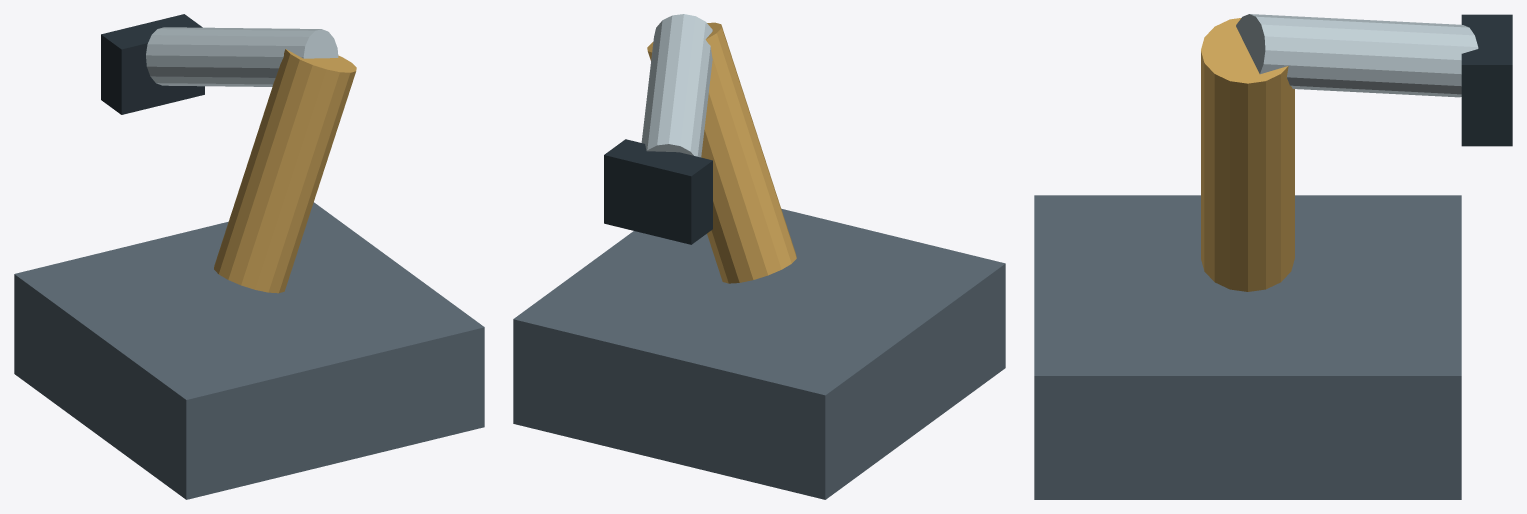
File: factory.glb
3 renders of one model, left to right at view 1: azimuth 30°, elevation 25°; view 2: azimuth 150°, elevation 25°; view 3: azimuth 270°, elevation 25°, orthographic. The views are drawn at different scales.
Visible parts, largest first — view 1: robot machine base, robot shoulder, robot forearm, tool claw; view 2: robot machine base, robot shoulder, tool claw, robot forearm; view 3: robot machine base, robot shoulder, robot forearm, tool claw.
Part boxes in pixels (x1,y1,x2,y2): robot machine base: [14, 202, 484, 499]; robot shoulder: [214, 49, 356, 293]; robot forearm: [146, 27, 338, 86]; tool claw: [101, 14, 204, 114]; robot machine base: [513, 208, 1005, 499]; robot shoulder: [647, 22, 796, 283]; tool claw: [604, 139, 712, 244]; robot forearm: [641, 14, 712, 157]; robot machine base: [1034, 195, 1461, 499]; robot shoulder: [1201, 18, 1294, 291]; robot forearm: [1236, 14, 1478, 97]; tool claw: [1461, 14, 1512, 146].
Bounding box in the file's own units: 1 × 1.12 × 1.12.
